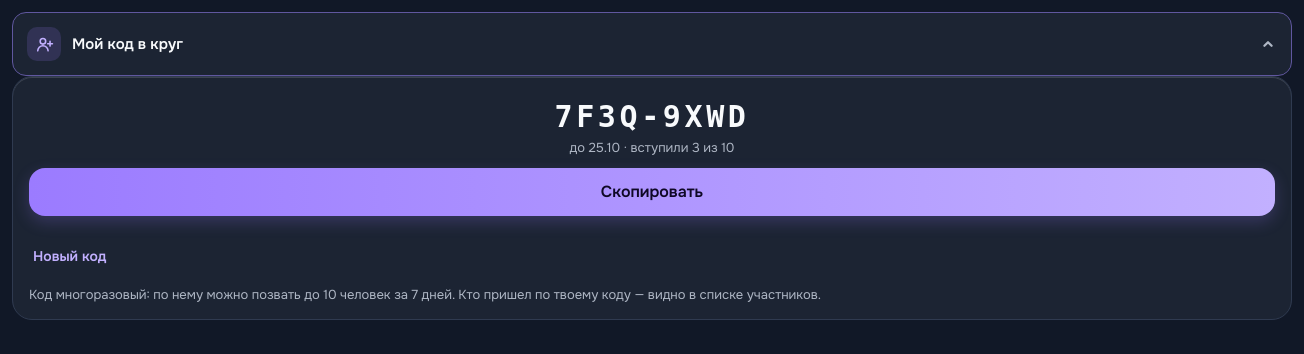
it: CircleCode › буфер недоступен — подсказка переписать вручную
Click the button "Скопировать": (652, 192) [29, 168, 1275, 216]
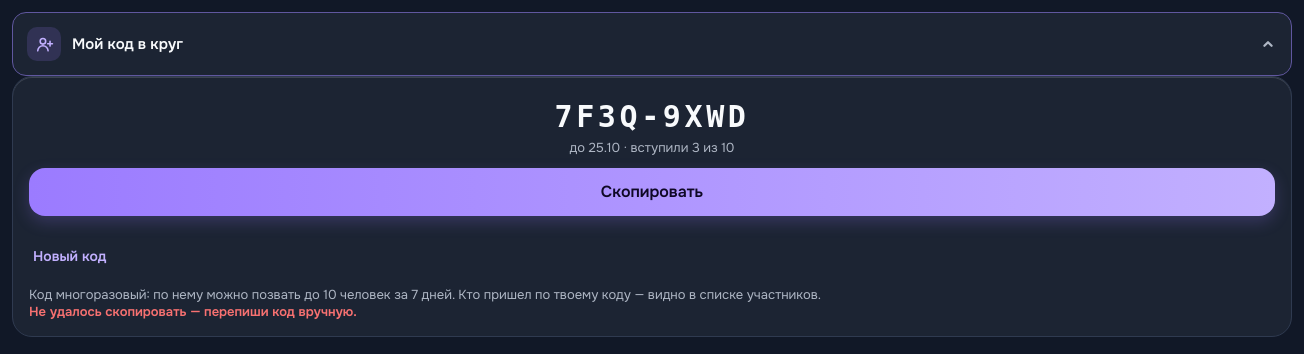
Now the message shows "перепиши код вручную", box [29, 303, 357, 320]
